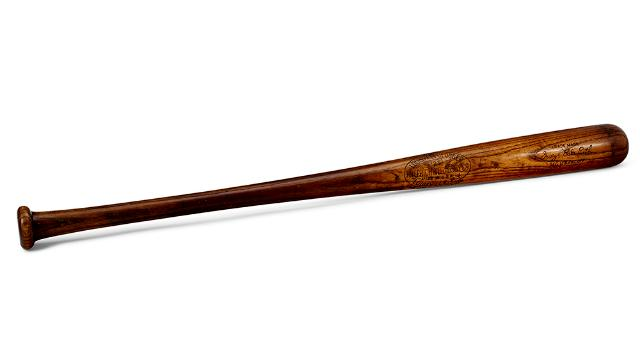baseball bat: (14, 126, 630, 248)
